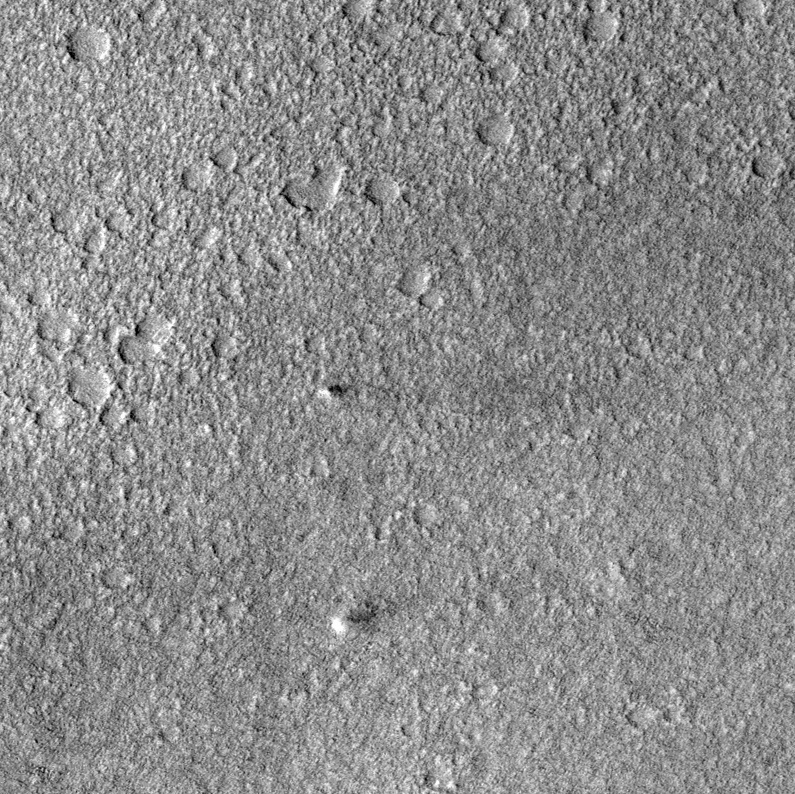dust_devil: (330, 600, 384, 636), (316, 382, 351, 401)
